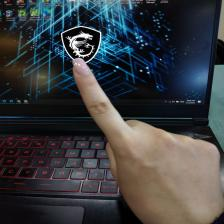one: (67, 55, 216, 210)
